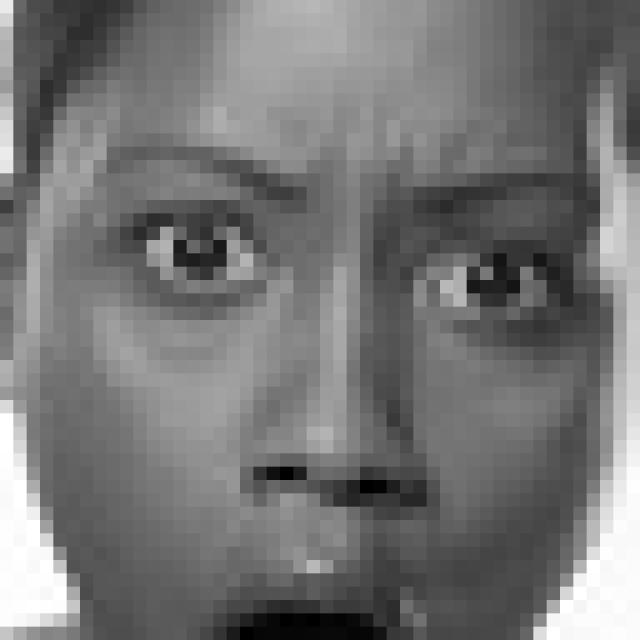surprise: (94, 128, 596, 640)
